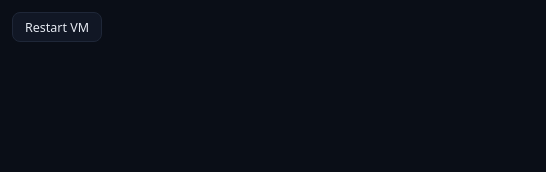
Test case: RestartVM › says so when the power-off fails, and lets the user try again
The width and height of the screenshot is (546, 172).
Step 1. Click the button "Restart VM" → (57, 27), box left=12, top=12, right=102, bottom=42
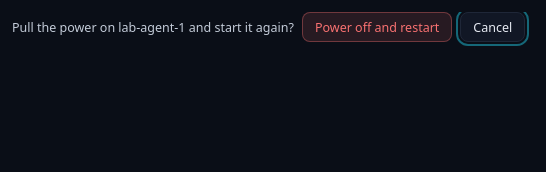
Step 2. Click the button "Power off and restart" → (377, 27), box left=302, top=12, right=452, bottom=42
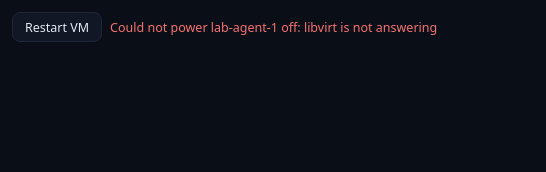
expect the message reads "Could not power lab-agent-1 off: libvirt is not answering": met, box left=110, top=18, right=437, bottom=36
expect the button "Restart VM" is shown: met, box left=12, top=12, right=102, bottom=42
